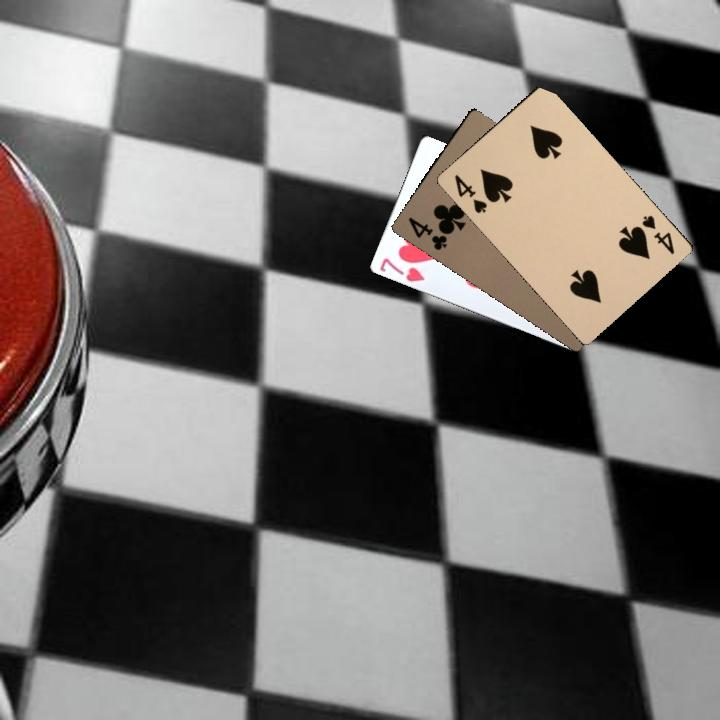4c: (404, 213, 450, 253)
4s: (450, 170, 490, 216), (638, 211, 677, 257)
7h: (375, 254, 427, 284)
